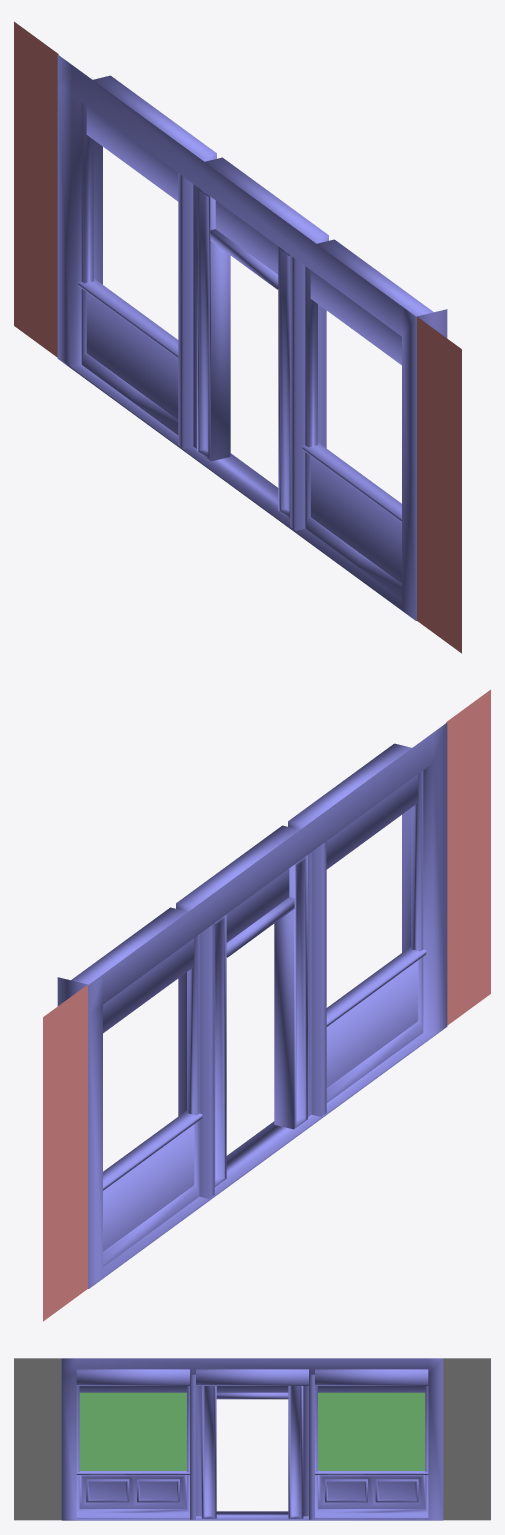
File: SM_shopFront_03.gltf
3 renders of one model, top to bottom at view 1: azimuth 30°, elevation 25°; view 2: azimuth 150°, elevation 25°; view 3: azimuth 270°, elevation 25°, orthographic. The views are drawn at different scales.
Parts seen in each view (by area): view 1: SM_shopFront_03; view 2: SM_shopFront_03; view 3: SM_shopFront_03.
Boxes of the visible parts, x1=… form: SM_shopFront_03: x1=14, y1=21, x2=461, y2=653; SM_shopFront_03: x1=43, y1=689, x2=490, y2=1321; SM_shopFront_03: x1=14, y1=1358, x2=490, y2=1520.
Size of the model in its own units: 0.4 by 3 by 8.
